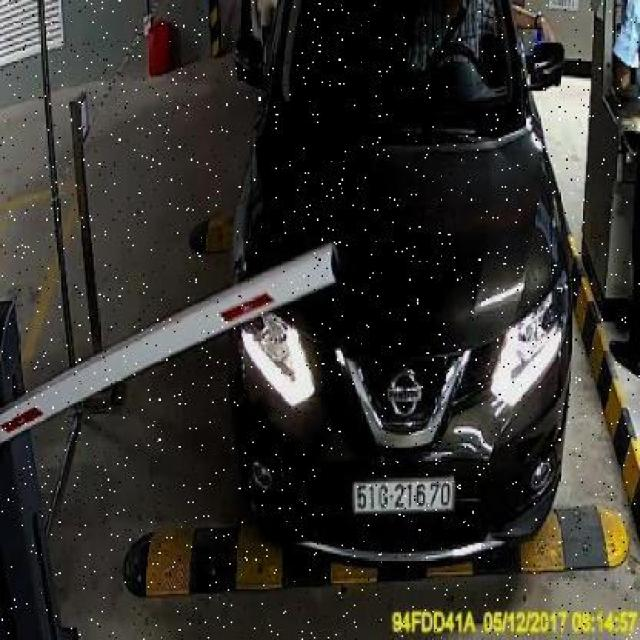number_plate: (349, 472, 454, 518)
